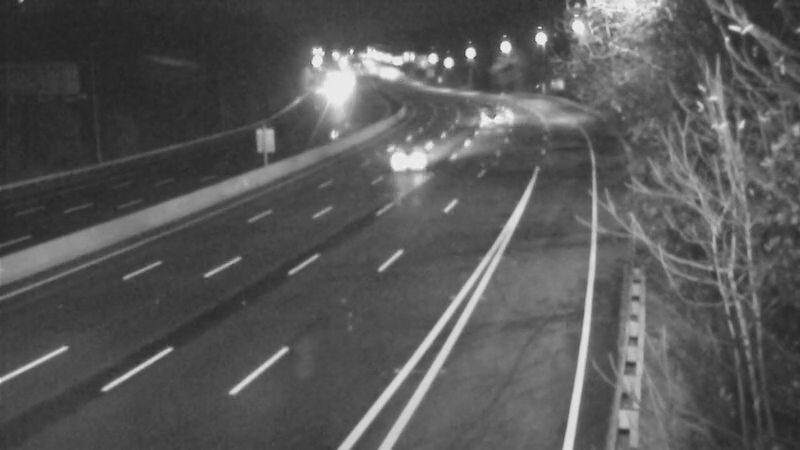vehicle: (368, 118, 448, 198), (468, 91, 518, 141), (307, 65, 357, 115)
